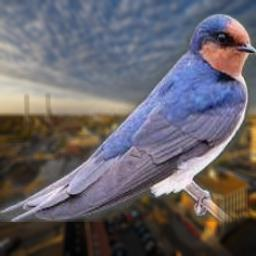Swallow: (0, 14, 256, 222)
